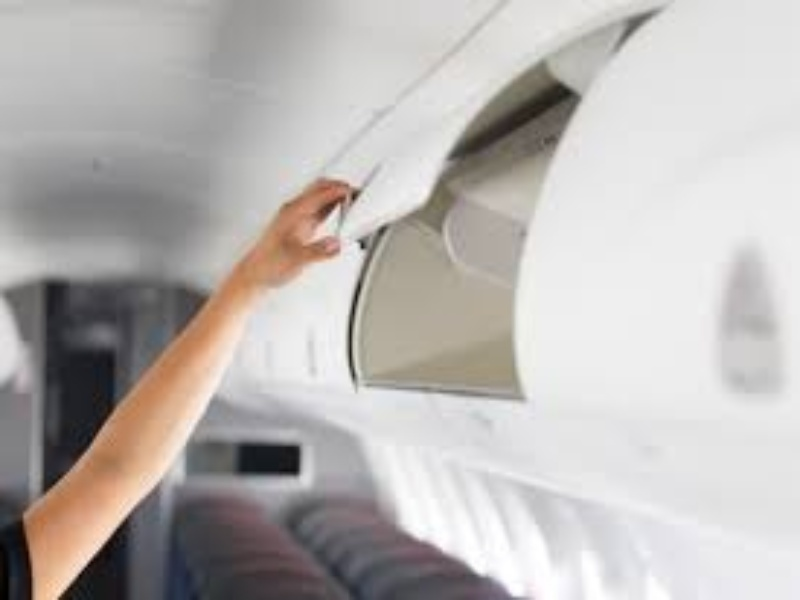close_bin: (519, 1, 799, 399), (274, 129, 366, 382)
open_bin: (334, 1, 587, 386)
